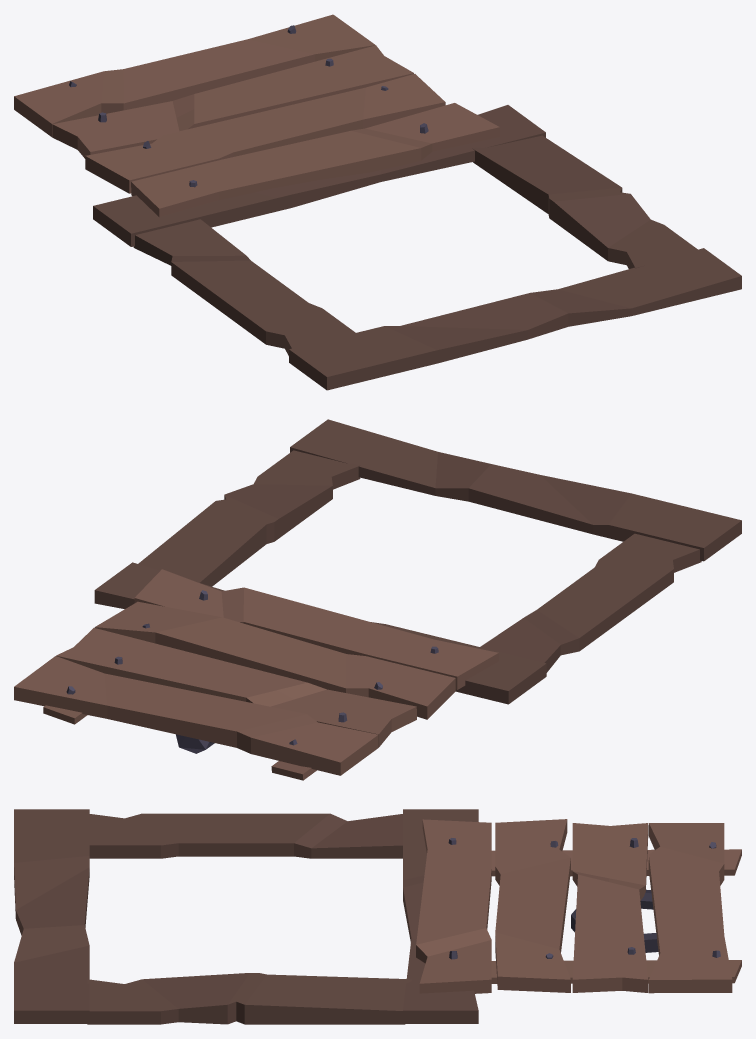
The model's file is Trapdoor_open.glb.
3 renders of one model, top to bottom at view 1: azimuth 30°, elevation 25°; view 2: azimuth 150°, elevation 25°; view 3: azimuth 270°, elevation 25°, orthographic.
Visible parts, largest first — view 1: Trapdoor_open; view 2: Trapdoor_open; view 3: Trapdoor_open.
Part boxes in pixels (box(x1,y1,x2,y2)): Trapdoor_open: box(14, 14, 741, 390); Trapdoor_open: box(14, 419, 741, 780); Trapdoor_open: box(14, 809, 741, 1024).
Size of the model in its own units: 1.74 by 0.2038 by 2.66.
